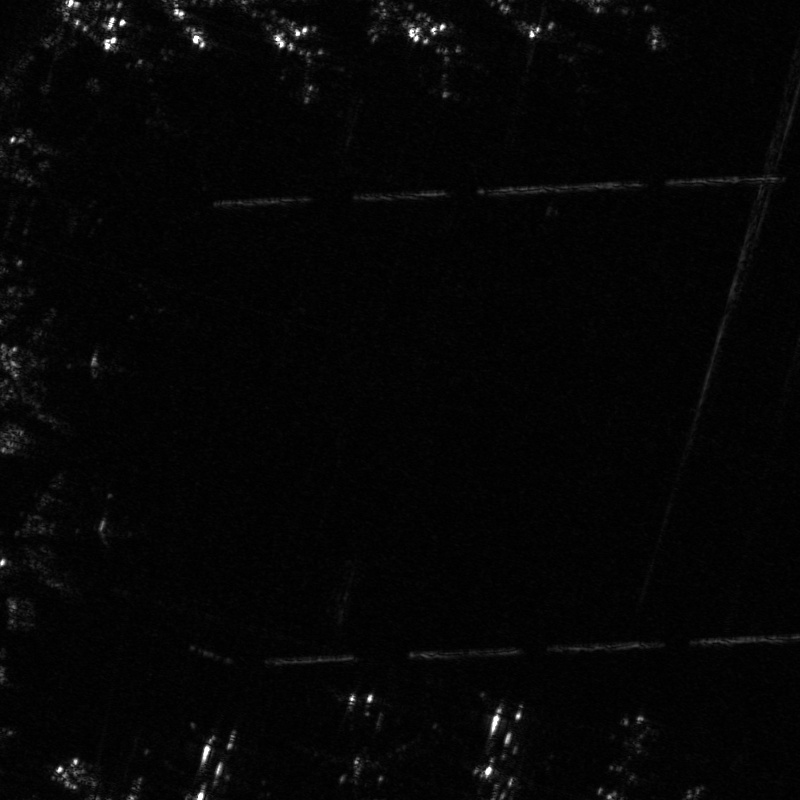A220: (581, 703, 683, 799)
A320/321: (440, 698, 567, 795), (400, 8, 490, 107)
Boeing737: (513, 12, 598, 74)
Boeing787: (270, 13, 352, 119)
other: (284, 681, 438, 789), (121, 50, 203, 135)
